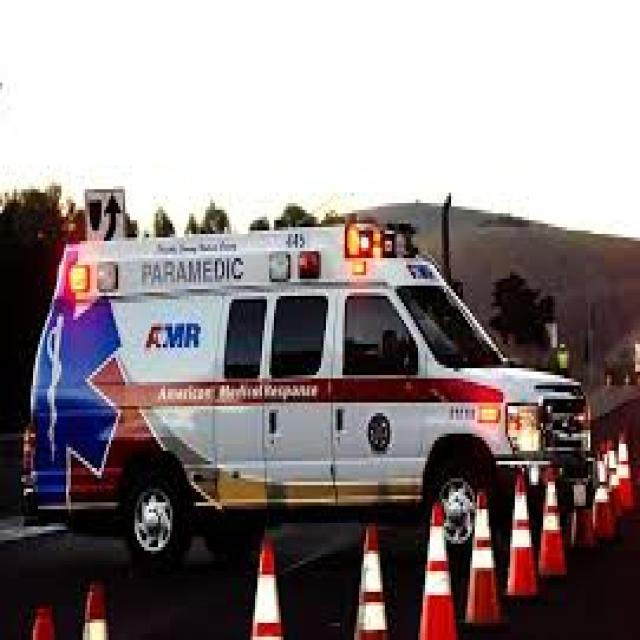ambulance: (21, 218, 596, 578)
